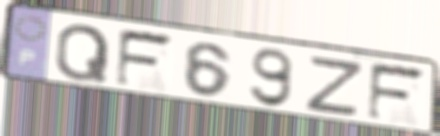6: (182, 40, 237, 98)
9: (248, 46, 296, 110)
F: (364, 60, 430, 124), (112, 27, 178, 90)
Q: (52, 22, 113, 83)
Z: (301, 55, 367, 119)
